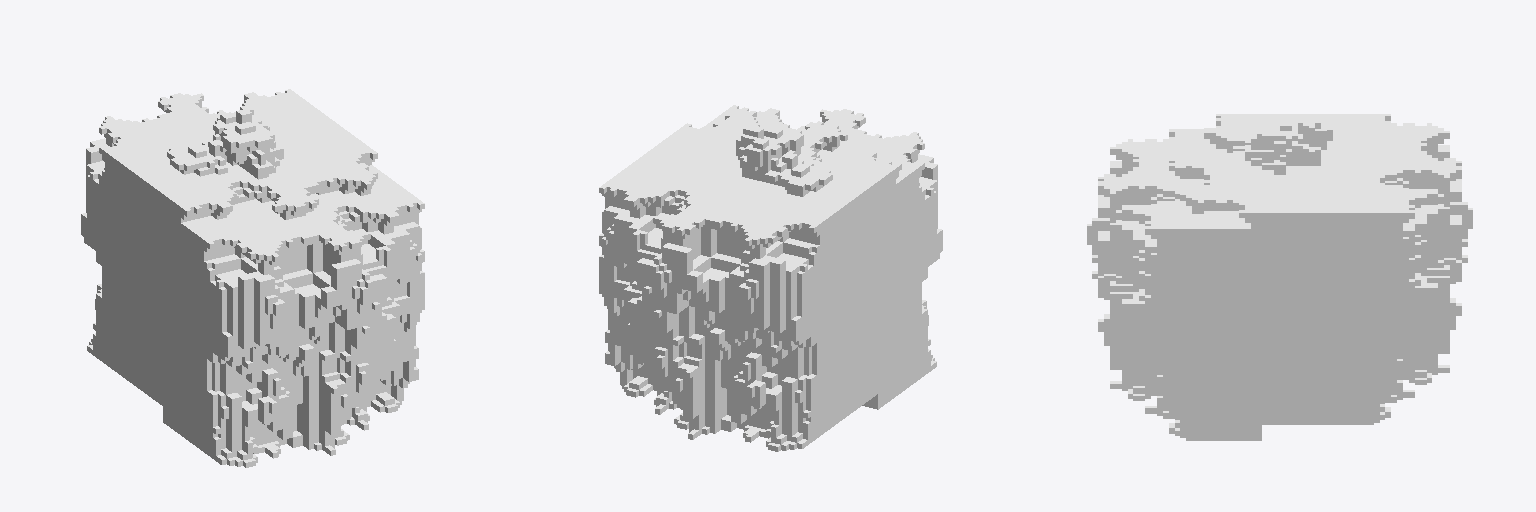
File: MountainRocks-7.obj
The picture shows the model from 3 angles: view 1: azimuth 30°, elevation 25°; view 2: azimuth 150°, elevation 25°; view 3: azimuth 270°, elevation 25°; orthographic projection.
Visible parts, largest first — view 1: object 1; view 2: object 1; view 3: object 1.
Part boxes in pixels (x1,y1,x2,y2): object 1: (81,89,424,467); object 1: (599,105,942,451); object 1: (1087,114,1472,440).
Size of the model in its own units: 4 by 5.1 by 6.6.